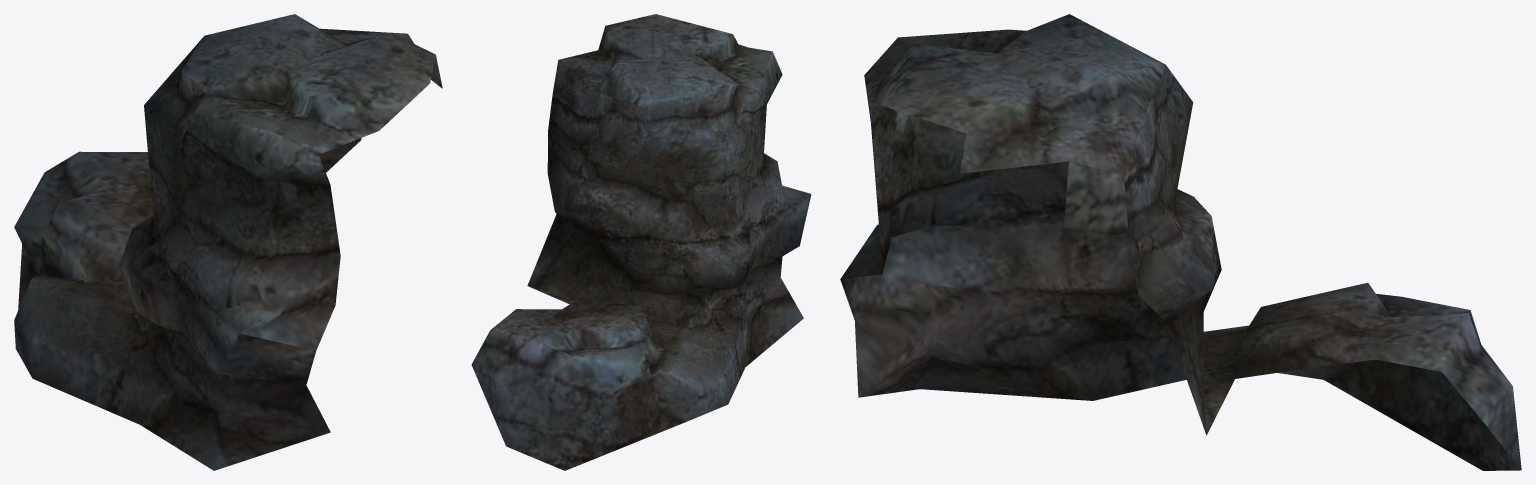
Rendered from S_Rock_Yellow034_H49.FBX.
3 renders of one model, left to right at view 1: azimuth 30°, elevation 25°; view 2: azimuth 150°, elevation 25°; view 3: azimuth 270°, elevation 25°, orthographic. The views are drawn at different scales.
Parts seen in each view (by area): view 1: S_Rock_Yellow034_H49; view 2: S_Rock_Yellow034_H49; view 3: S_Rock_Yellow034_H49.
Boxes of the visible parts, x1,y1,x2,y2 form: S_Rock_Yellow034_H49: (14, 14, 442, 470); S_Rock_Yellow034_H49: (471, 14, 811, 470); S_Rock_Yellow034_H49: (840, 14, 1521, 470).
Bounding box in the file's own units: 699 × 1206 × 875.
1 material, 1 textured.
